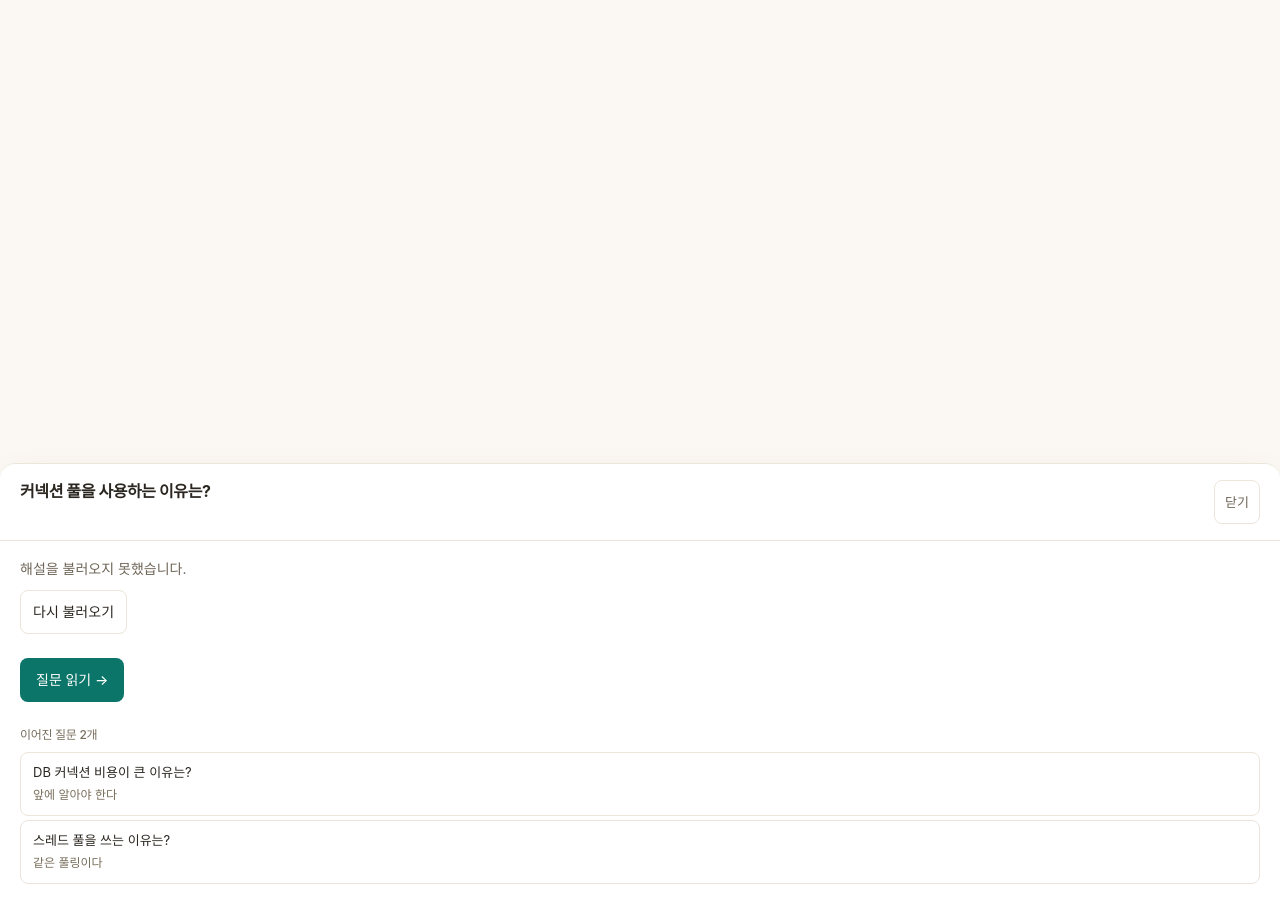
지도의 점을 눌러 열었을 때 › 해설을 못 받으면 그 자리에서 다시 불러올 수 있다
This screenshot has width=1280, height=900.
Step 1. Click the button "다시 불러오기" → (74, 612), box [20,590,127,634]
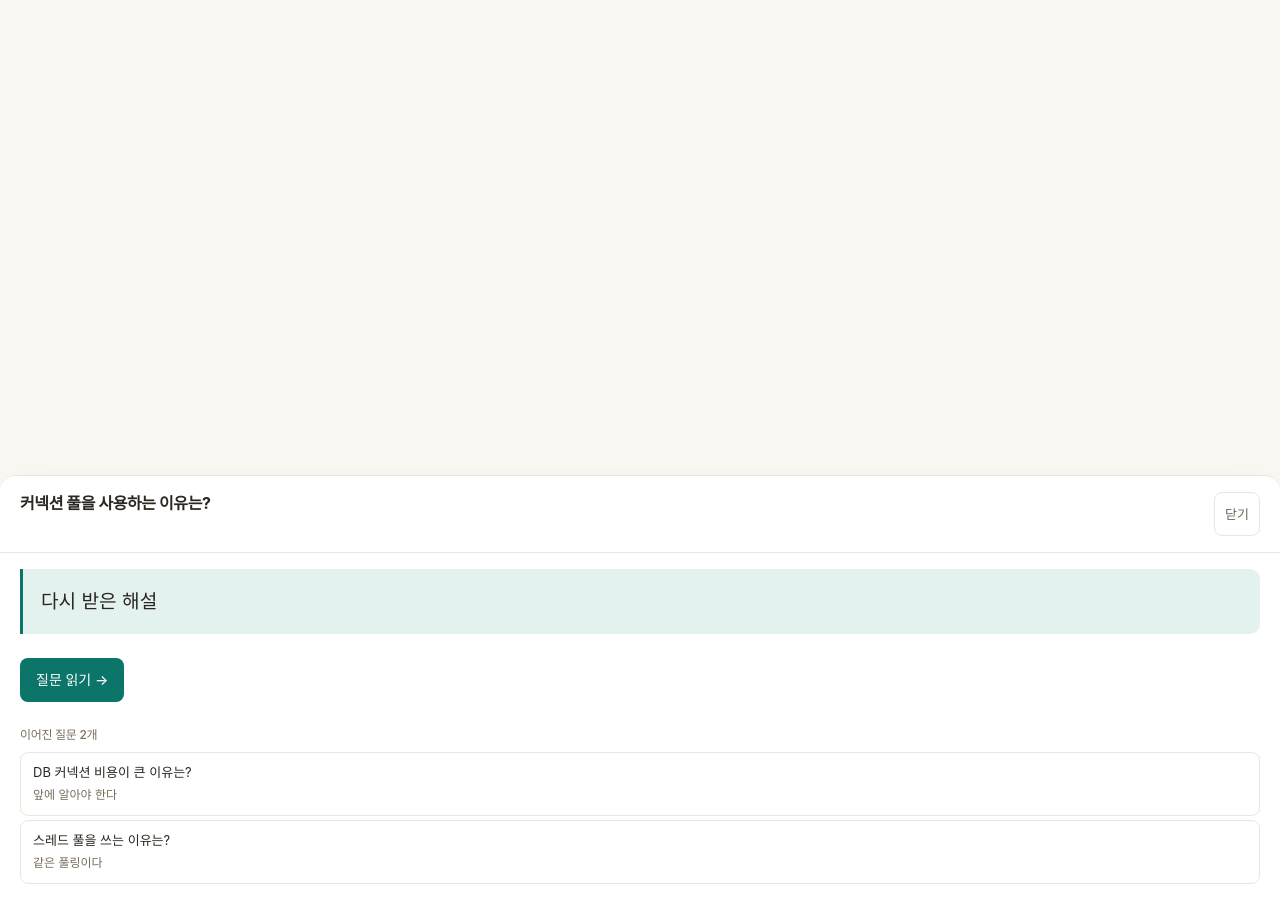
Expected: the text "다시 받은 해설" is shown, [20,569,1260,634]
Expected: the button "다시 불러오기" is gone
